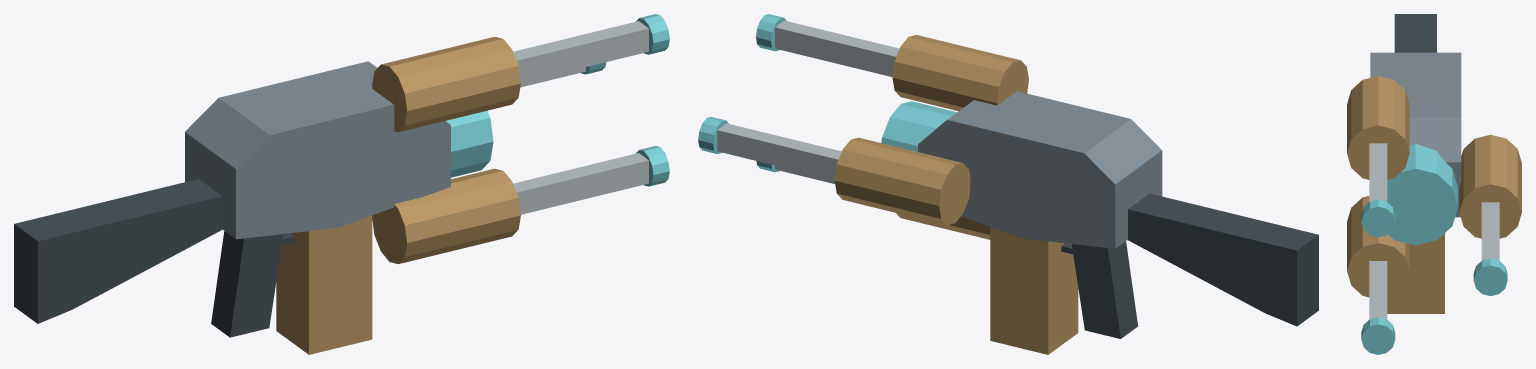
Rendered from w11-prism-writ.glb.
3 views of the same model, side by side, from view 1: azimuth 30°, elevation 25°; view 2: azimuth 150°, elevation 25°; view 3: azimuth 270°, elevation 25° (orthographic). The views are drawn at different scales.
Parts seen in each view (by area): view 1: w11-prism-writ__receiver, w11-prism-writ__stock, w11-prism-writ__power_cell, w11-prism-writ__coil_1, w11-prism-writ__coil_2, w11-prism-writ__grip, w11-prism-writ__prong_1, w11-prism-writ__prong_2, w11-prism-writ__central_emitter, w11-prism-writ__electrode_tip_2, w11-prism-writ__electrode_tip_1; view 2: w11-prism-writ__receiver, w11-prism-writ__stock, w11-prism-writ__power_cell, w11-prism-writ__coil_0, w11-prism-writ__coil_1, w11-prism-writ__grip, w11-prism-writ__prong_0, w11-prism-writ__prong_1, w11-prism-writ__central_emitter, w11-prism-writ__coil_2, w11-prism-writ__electrode_tip_0, w11-prism-writ__electrode_tip_1; view 3: w11-prism-writ__receiver, w11-prism-writ__central_emitter, w11-prism-writ__coil_1, w11-prism-writ__coil_0, w11-prism-writ__coil_2, w11-prism-writ__power_cell, w11-prism-writ__stock, w11-prism-writ__prong_1, w11-prism-writ__prong_0, w11-prism-writ__prong_2, w11-prism-writ__electrode_tip_0, w11-prism-writ__electrode_tip_1 (+1 smaller).
Boxes of the visible parts, <box> form: w11-prism-writ__receiver: <box>185,61,450,239</box>; w11-prism-writ__stock: <box>14,179,222,323</box>; w11-prism-writ__power_cell: <box>276,215,372,354</box>; w11-prism-writ__coil_1: <box>372,36,520,132</box>; w11-prism-writ__coil_2: <box>372,168,520,264</box>; w11-prism-writ__grip: <box>211,231,283,337</box>; w11-prism-writ__prong_1: <box>513,21,648,82</box>; w11-prism-writ__prong_2: <box>513,153,648,214</box>; w11-prism-writ__central_emitter: <box>446,110,493,177</box>; w11-prism-writ__electrode_tip_2: <box>636,146,669,186</box>; w11-prism-writ__electrode_tip_1: <box>636,14,669,54</box>; w11-prism-writ__receiver: <box>918,91,1162,248</box>; w11-prism-writ__stock: <box>1128,193,1318,326</box>; w11-prism-writ__power_cell: <box>990,227,1078,354</box>; w11-prism-writ__coil_0: <box>834,137,970,225</box>; w11-prism-writ__coil_1: <box>892,35,1028,111</box>; w11-prism-writ__grip: <box>1071,241,1137,338</box>; w11-prism-writ__prong_0: <box>717,123,841,179</box>; w11-prism-writ__prong_1: <box>775,20,899,77</box>; w11-prism-writ__central_emitter: <box>881,101,956,151</box>; w11-prism-writ__coil_2: <box>896,213,990,239</box>; w11-prism-writ__electrode_tip_0: <box>698,117,728,153</box>; w11-prism-writ__electrode_tip_1: <box>756,14,786,51</box>; w11-prism-writ__receiver: <box>1370,52,1461,217</box>; w11-prism-writ__central_emitter: <box>1387,143,1457,245</box>; w11-prism-writ__coil_1: <box>1347,76,1409,179</box>; w11-prism-writ__coil_0: <box>1459,134,1521,238</box>; w11-prism-writ__coil_2: <box>1347,196,1409,297</box>; w11-prism-writ__power_cell: <box>1387,233,1444,313</box>; w11-prism-writ__stock: <box>1394,14,1436,52</box>; w11-prism-writ__prong_1: <box>1369,143,1387,201</box>; w11-prism-writ__prong_0: <box>1481,202,1499,260</box>; w11-prism-writ__prong_2: <box>1369,261,1387,319</box>; w11-prism-writ__electrode_tip_0: <box>1473,258,1507,296</box>; w11-prism-writ__electrode_tip_1: <box>1361,199,1395,237</box>.
Bounding box in the file's own units: 0.9696 × 0.4126 × 0.2685.
